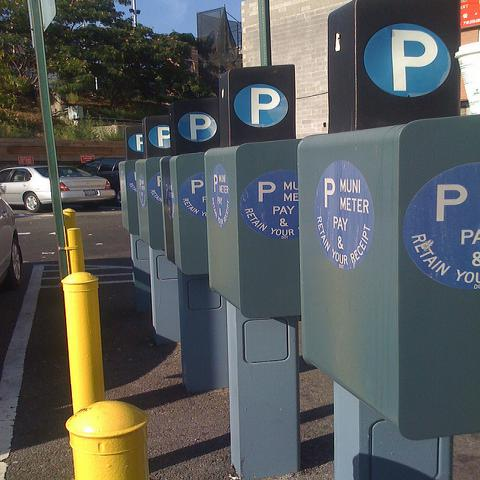car: (1, 165, 116, 214), (0, 199, 24, 284), (76, 156, 125, 192)
